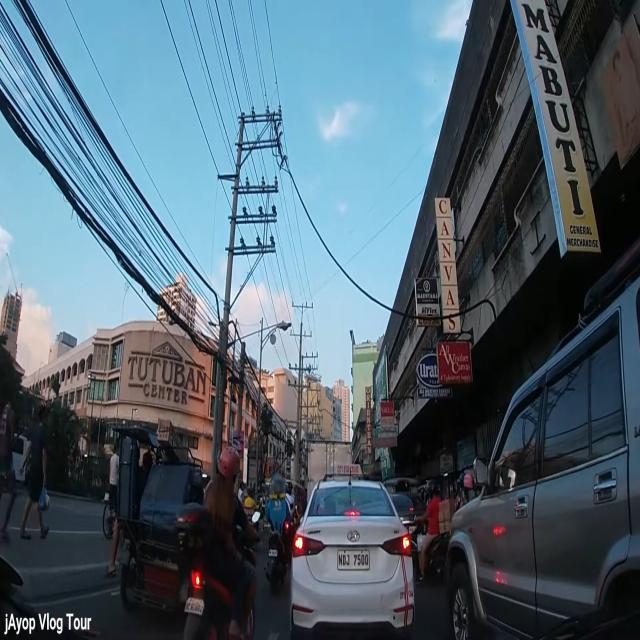car: (450, 276, 640, 640), (292, 462, 414, 640)
motorcycle: (177, 444, 260, 638), (408, 480, 456, 586), (264, 475, 294, 602)
tricycle: (109, 422, 205, 621)
truck: (307, 440, 353, 518)
